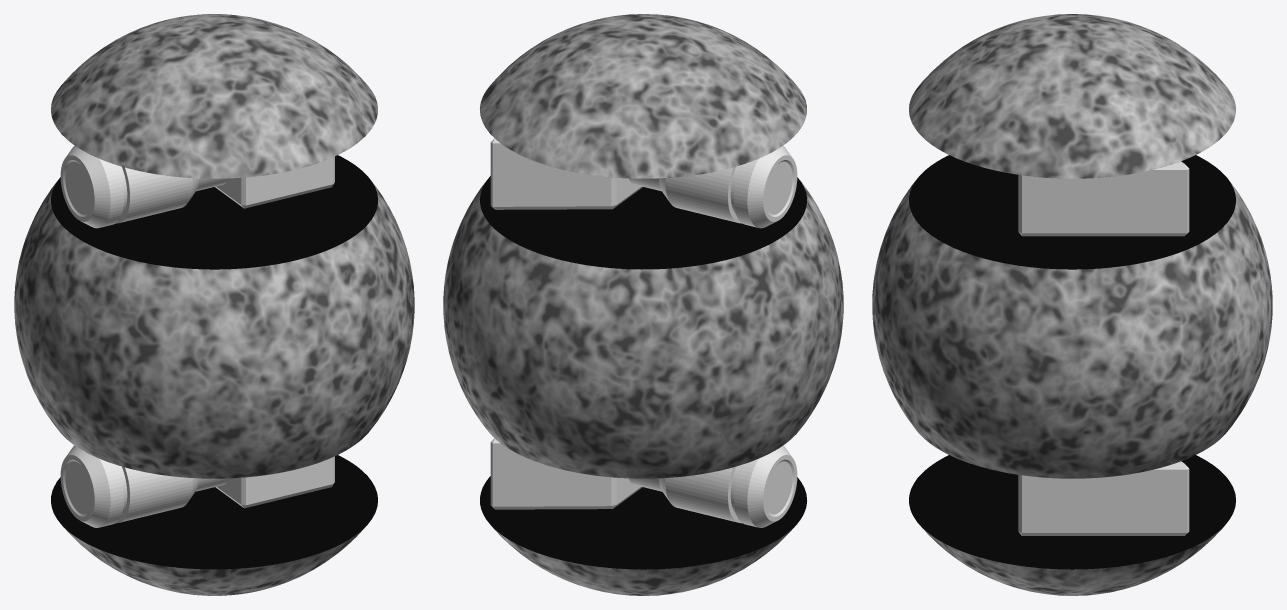
File: Moon.fbx
The picture shows the model from 3 angles, left to right: view 1: azimuth 30°, elevation 25°; view 2: azimuth 150°, elevation 25°; view 3: azimuth 270°, elevation 25°; orthographic projection.
Parts seen in each view (by area): view 1: Middle, Left, Right, Cylinder.002, Cylinder.005, Cylinder.006, Cylinder.003, Cylinder.007, Cylinder.004; view 2: Middle, Left, Right, Cylinder.006, Cylinder.003, Cylinder.002, Cylinder.005, Cylinder.007, Cylinder.004; view 3: Middle, Left, Right, Cylinder.006, Cylinder.003.
Boxes of the visible parts, box(x1,y1,x2,y2) form: Middle: box(14, 155, 414, 478); Left: box(51, 14, 377, 178); Right: box(51, 455, 377, 595); Cylinder.002: box(60, 145, 198, 228); Cylinder.005: box(60, 445, 198, 527); Cylinder.006: box(215, 156, 334, 208); Cylinder.003: box(215, 456, 334, 508); Cylinder.007: box(65, 461, 229, 514); Cylinder.004: box(65, 161, 228, 214); Middle: box(443, 176, 843, 478); Left: box(480, 14, 806, 178); Right: box(480, 476, 806, 595); Cylinder.006: box(490, 138, 642, 209); Cylinder.003: box(490, 438, 642, 509); Cylinder.002: box(659, 145, 797, 228); Cylinder.005: box(659, 445, 797, 527); Cylinder.007: box(628, 461, 792, 514); Cylinder.004: box(628, 161, 792, 214); Middle: box(872, 155, 1272, 478); Left: box(909, 14, 1235, 178); Right: box(909, 455, 1235, 595); Cylinder.006: box(1018, 161, 1189, 236); Cylinder.003: box(1018, 461, 1189, 535).
Bounding box in the file's own units: 200 × 300 × 200.
